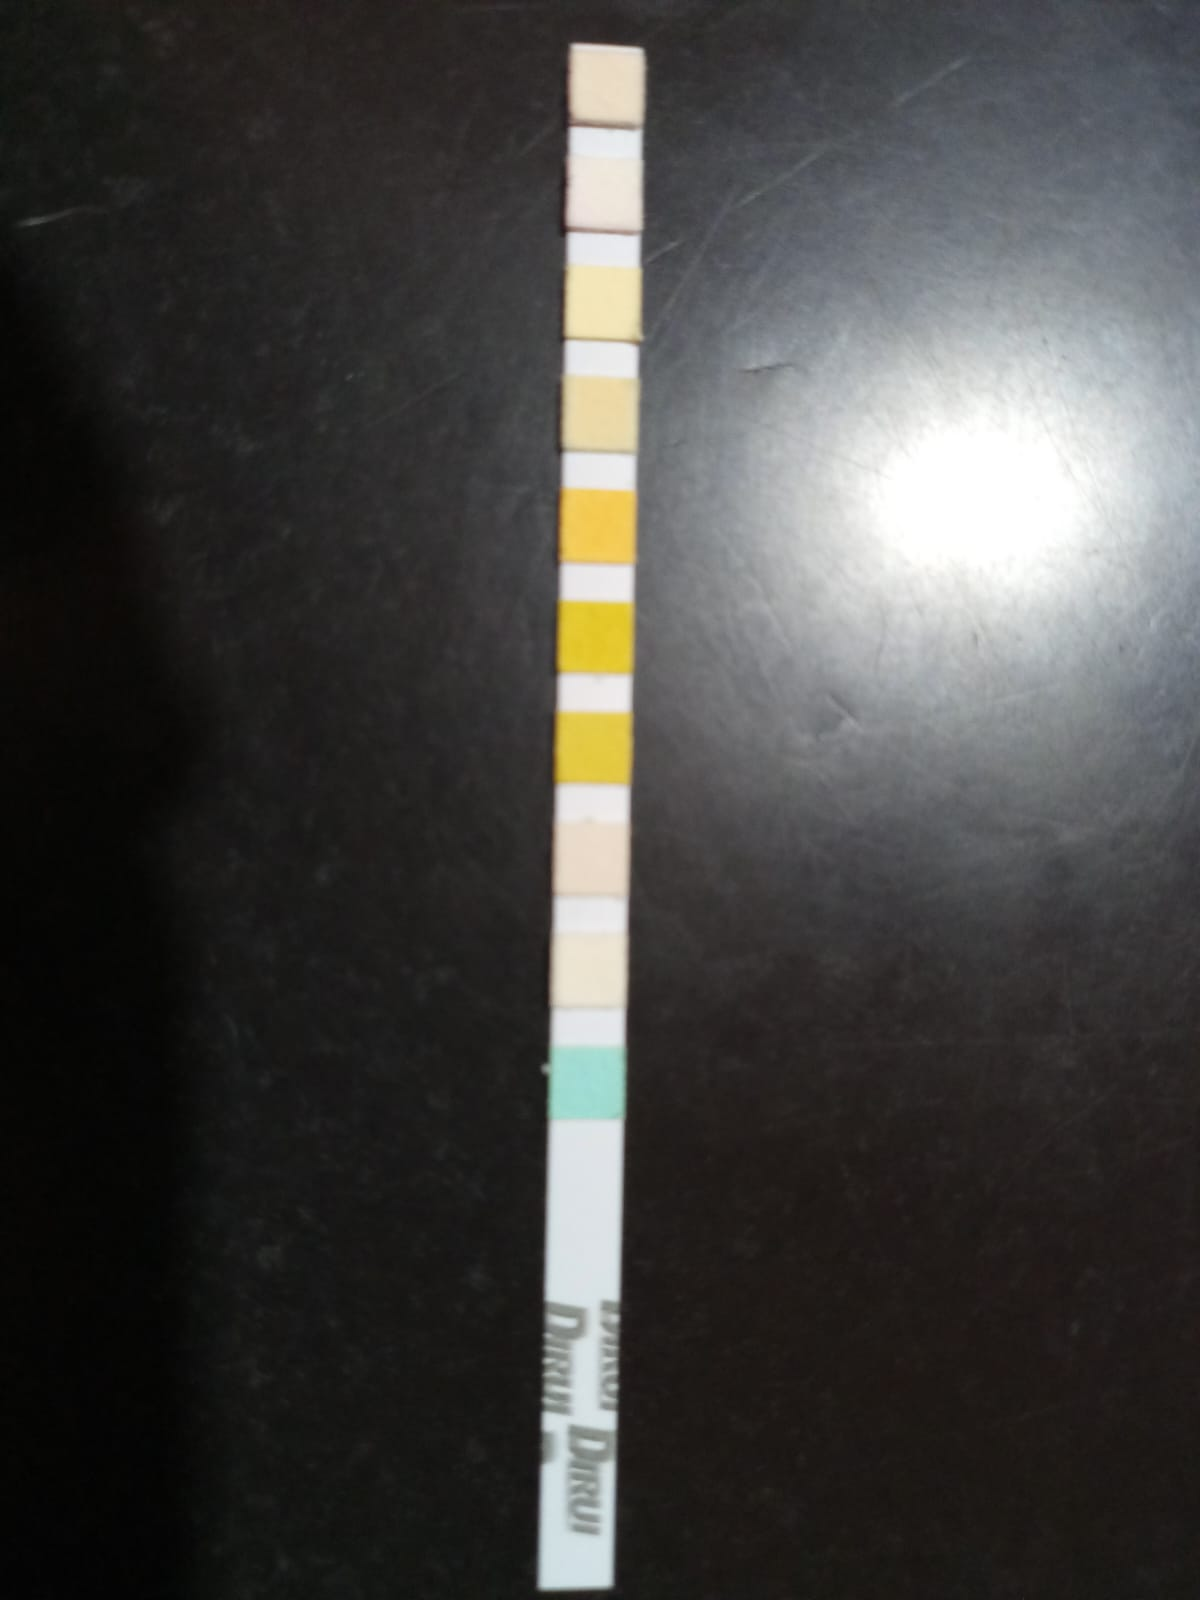color 1: (574, 52, 639, 118)
color 10: (552, 1049, 621, 1112)
color 2: (574, 165, 639, 226)
color 3: (567, 272, 638, 335)
color 4: (566, 383, 635, 449)
color 5: (563, 495, 633, 558)
color 6: (562, 609, 632, 669)
color 7: (561, 719, 625, 781)
color 8: (555, 830, 623, 891)
color 9: (553, 939, 621, 1002)
